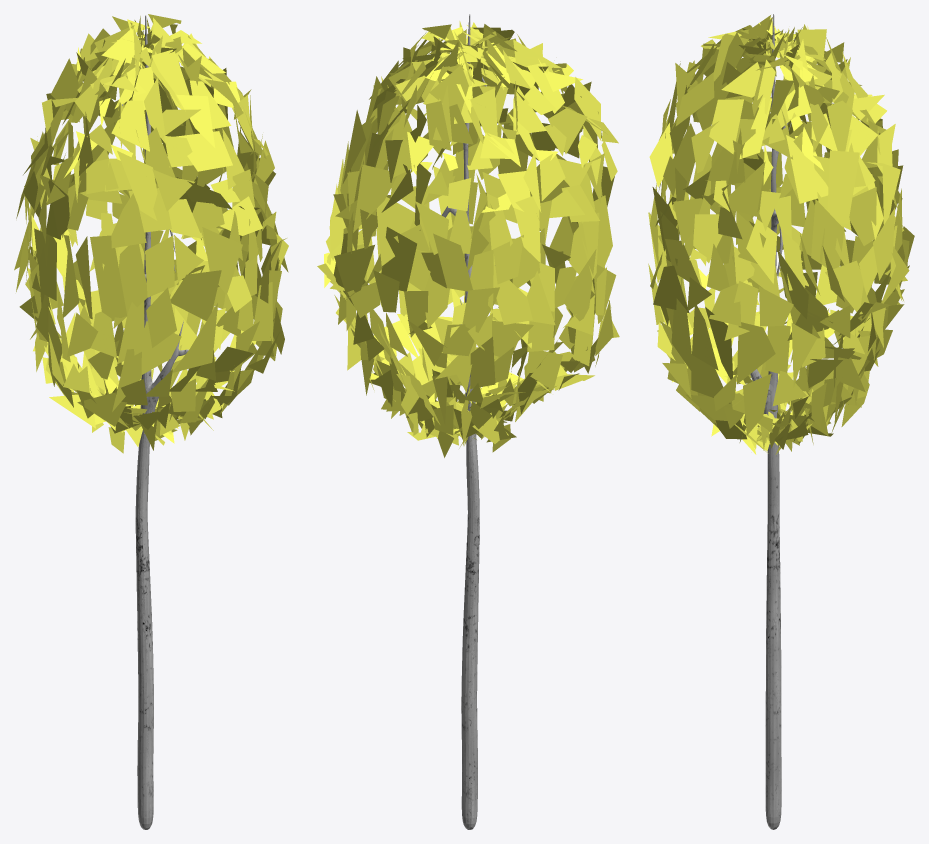
File: Leaves24.fbx
3 views of the same model, side by side, from view 1: azimuth 30°, elevation 25°; view 2: azimuth 150°, elevation 25°; view 3: azimuth 270°, elevation 25° (orthographic).
Visible parts, largest first — view 1: Leaves24; view 2: Leaves24; view 3: Leaves24.
Part boxes in pixels (x1,y1,x2,y2): Leaves24: (14, 14, 288, 829); Leaves24: (317, 14, 619, 829); Leaves24: (648, 14, 914, 829).
Size of the model in its own units: 816 by 2574 by 762.
2 materials, 1 textured.
